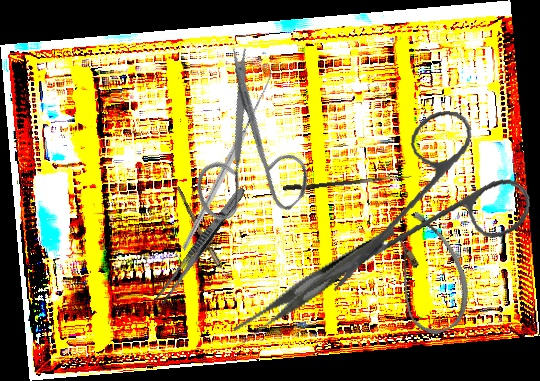Cannula: (370, 204, 484, 342)
Dressing Forceps: (218, 227, 413, 345), (153, 184, 249, 307)
Hook Surgical: (123, 64, 328, 252), (283, 170, 412, 193)
Iris Scissors: (323, 98, 540, 313), (137, 40, 349, 253)
Surgical Spoon: (173, 186, 239, 296)
